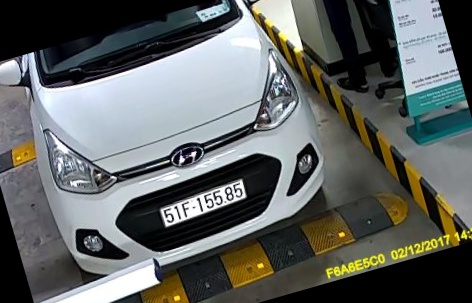plate: (153, 176, 259, 234)
